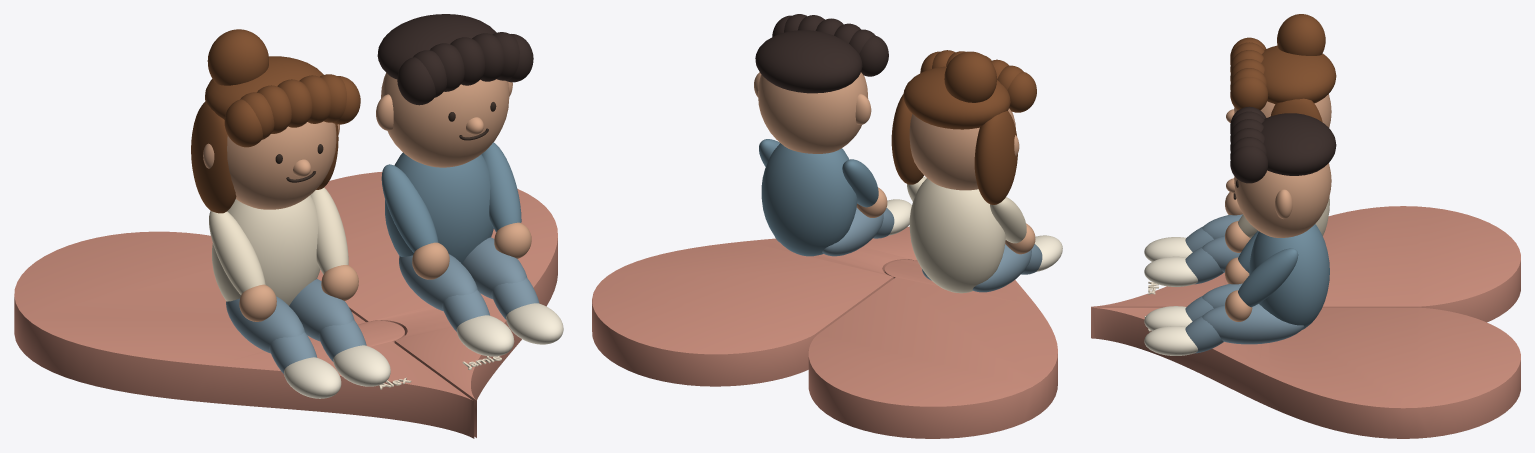
3 renders of one model, left to right at view 1: azimuth 30°, elevation 25°; view 2: azimuth 150°, elevation 25°; view 3: azimuth 270°, elevation 25°, orthographic. The views are drawn at different scales.
Parts seen in each view (by area): view 1: HEART_BASE_LEFT, HEART_BASE_RIGHT, HEAD_RIGHT, HEAD_LEFT, BODY_RIGHT, BODY_LEFT, HAIR_CAP_right, LOCK_left_-1, BUN_left, ARM_right_0, ARM_left_0, HAIR_CAP_left (+33 smaller); view 2: HEART_BASE_LEFT, HEART_BASE_RIGHT, BODY_RIGHT, BODY_LEFT, HEAD_RIGHT, HAIR_CAP_right, HEAD_LEFT, HAIR_CAP_left, LOCK_left_-1, BUN_left, LOCK_left_1, THIGH_right_0 (+7 smaller); view 3: HEART_BASE_RIGHT, HEART_BASE_LEFT, BODY_RIGHT, HEAD_RIGHT, HAIR_CAP_right, HAIR_CAP_left, THIGH_right_1, ARM_right_1, BUN_left, SHOE_left_1, SHOE_right_1, FRINGE_right_0 (+14 smaller).
Boxes of the visible parts, x1,y1,x2,y2 form: HEART_BASE_LEFT: [14, 231, 474, 438]; HEART_BASE_RIGHT: [317, 172, 557, 437]; HEAD_RIGHT: [381, 72, 509, 167]; HEAD_LEFT: [227, 121, 336, 209]; BODY_RIGHT: [385, 152, 493, 263]; BODY_LEFT: [212, 195, 320, 305]; HAIR_CAP_right: [377, 14, 496, 79]; LOCK_left_-1: [191, 101, 236, 213]; BUN_left: [207, 29, 268, 85]; ARM_right_0: [381, 164, 438, 252]; ARM_left_0: [209, 211, 265, 294]; HAIR_CAP_left: [205, 56, 323, 119]; HEART_BASE_LEFT: [808, 259, 1057, 438]; HEART_BASE_RIGHT: [592, 226, 917, 386]; BODY_RIGHT: [761, 143, 857, 256]; BODY_LEFT: [909, 178, 1005, 293]; HEAD_RIGHT: [758, 72, 868, 153]; HAIR_CAP_right: [755, 30, 862, 93]; HEAD_LEFT: [909, 108, 1015, 190]; HAIR_CAP_left: [903, 66, 1010, 129]; LOCK_left_-1: [974, 111, 1017, 204]; BUN_left: [944, 51, 996, 102]; LOCK_left_1: [891, 94, 923, 184]; THIGH_right_0: [822, 207, 883, 256]; HEART_BASE_RIGHT: [1091, 307, 1520, 438]; HEART_BASE_LEFT: [1091, 206, 1520, 322]; BODY_RIGHT: [1249, 224, 1329, 329]; HEAD_RIGHT: [1234, 163, 1331, 237]; HAIR_CAP_right: [1261, 113, 1336, 175]; HAIR_CAP_left: [1261, 45, 1336, 103]; THIGH_right_1: [1202, 304, 1304, 344]; ARM_right_1: [1238, 248, 1298, 307]; BUN_left: [1277, 14, 1325, 55]; SHOE_left_1: [1144, 256, 1197, 286]; SHOE_right_1: [1144, 326, 1197, 355]; FRINGE_right_0: [1230, 146, 1267, 183].
Size of the model in its own units: 4.5 by 2.89 by 4.05.
